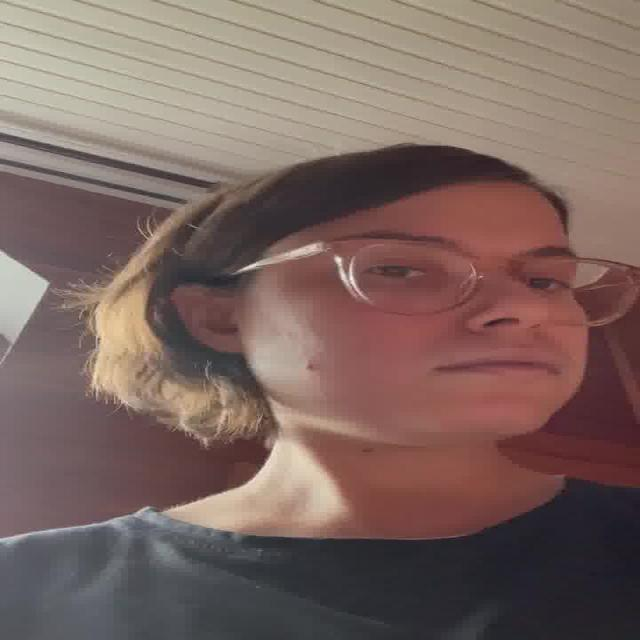earlobe: (171, 282, 244, 355)
